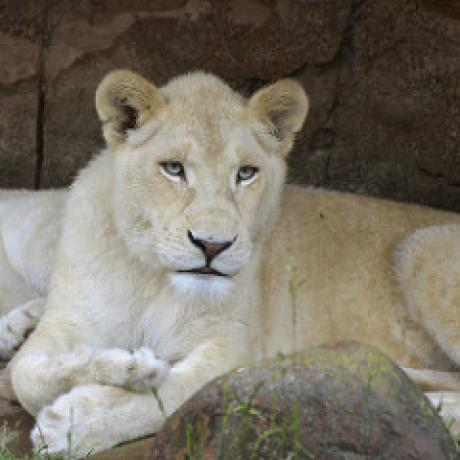Lion: (9, 63, 460, 460)
